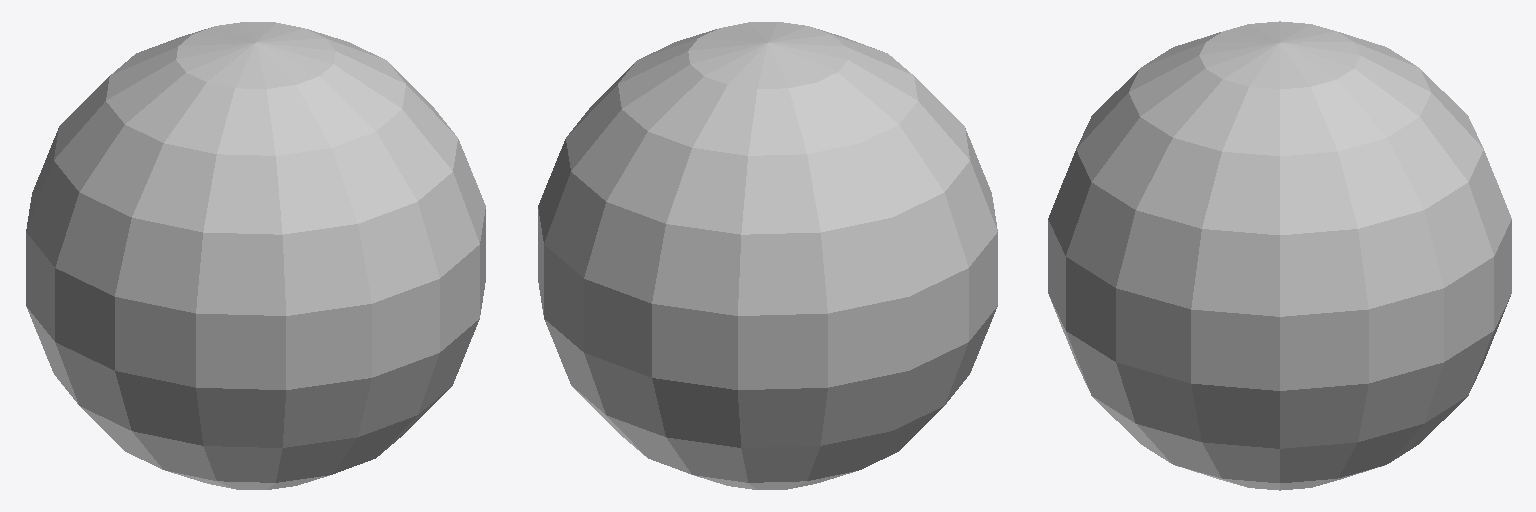
Rendered from marble-high.obj.
The picture shows the model from 3 angles: view 1: azimuth 30°, elevation 25°; view 2: azimuth 150°, elevation 25°; view 3: azimuth 270°, elevation 25°; orthographic projection.
Visible parts, largest first — view 1: (%ignore); view 2: (%ignore); view 3: (%ignore).
Boxes of the visible parts, x1=… form: (%ignore): x1=26, y1=22, x2=485, y2=489; (%ignore): x1=538, y1=22, x2=997, y2=489; (%ignore): x1=1048, y1=21, x2=1511, y2=490.
Bounding box in the file's own units: 0.3939 × 0.4 × 0.3939.